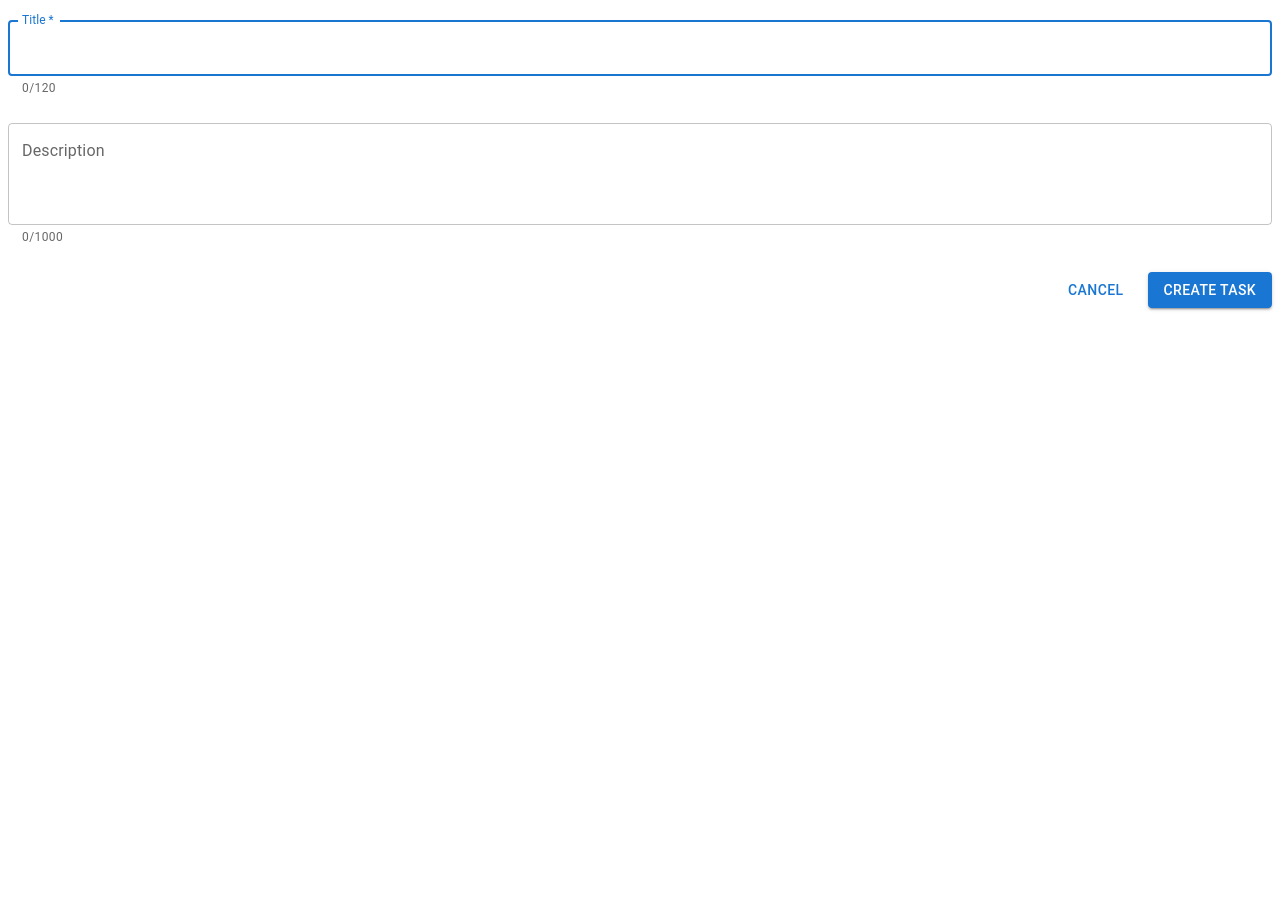
Test: CreateTaskForm › creates the task, confirms it and returns to the list
Type "Call the plumber" into the field labelled "Title *" at [640, 48], box [8, 20, 1272, 76]
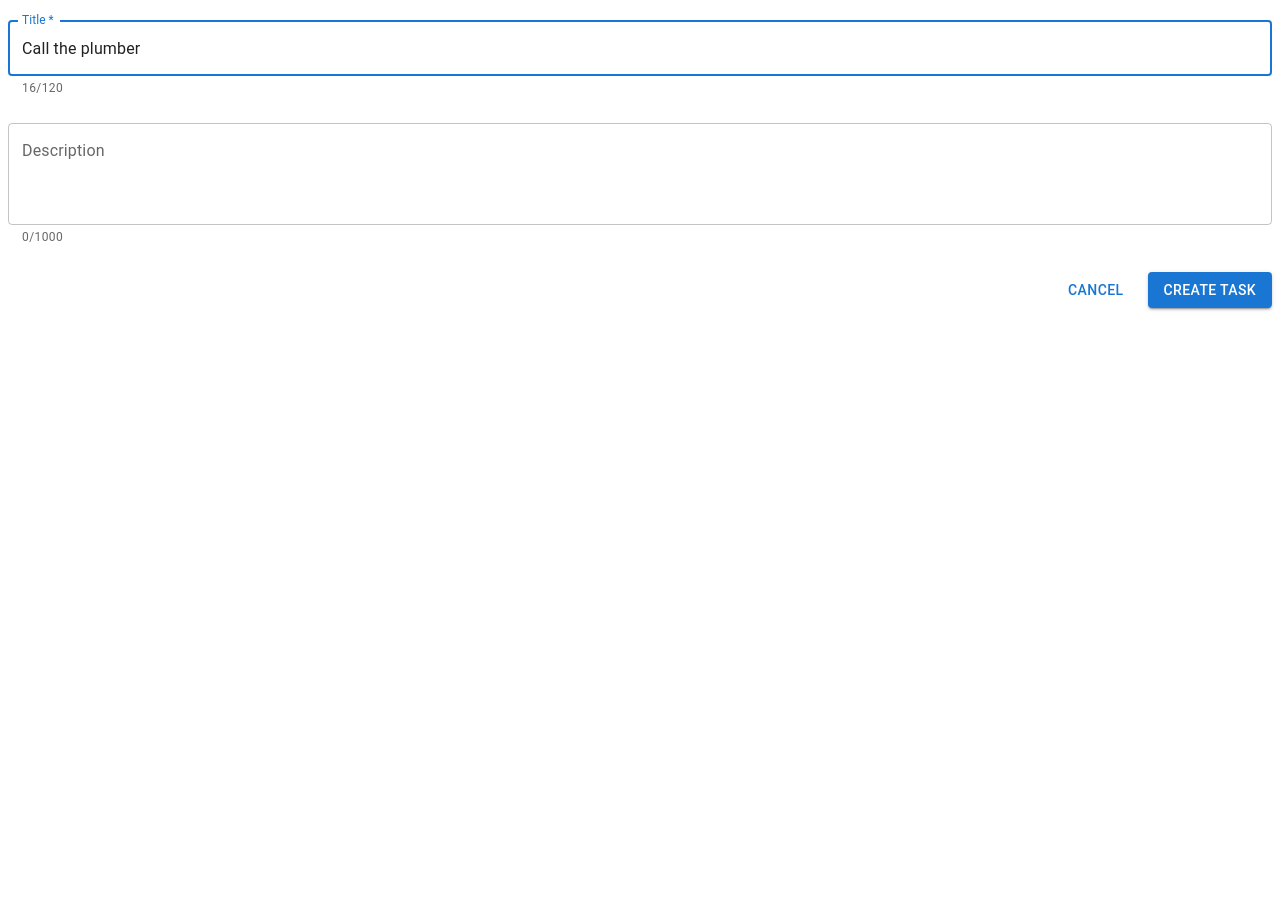
Type "Kitchen sink" into the text box labelled "Description" at [640, 174], box [22, 139, 1258, 208]
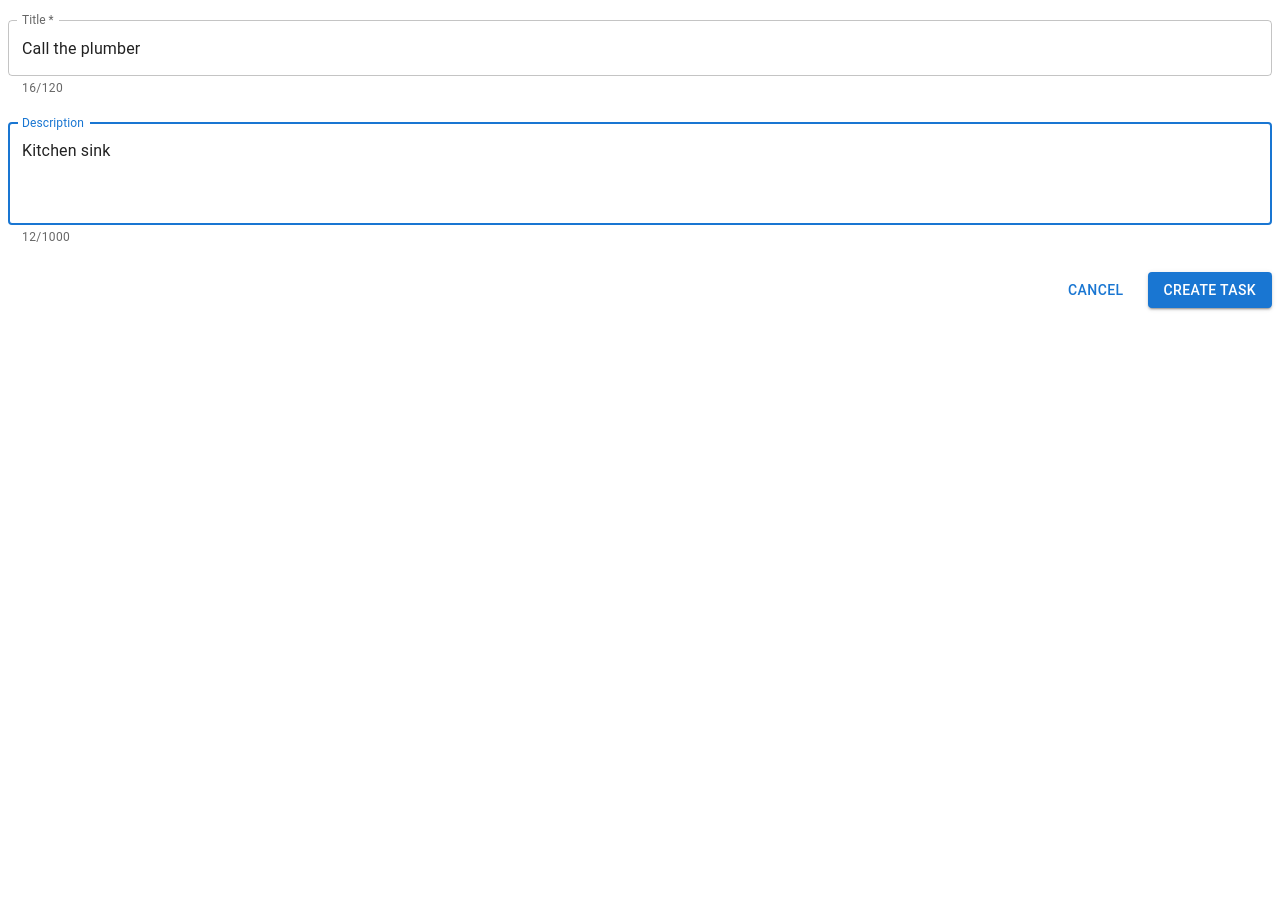
Click the button "Create task" at [1210, 290], box [1148, 272, 1272, 308]
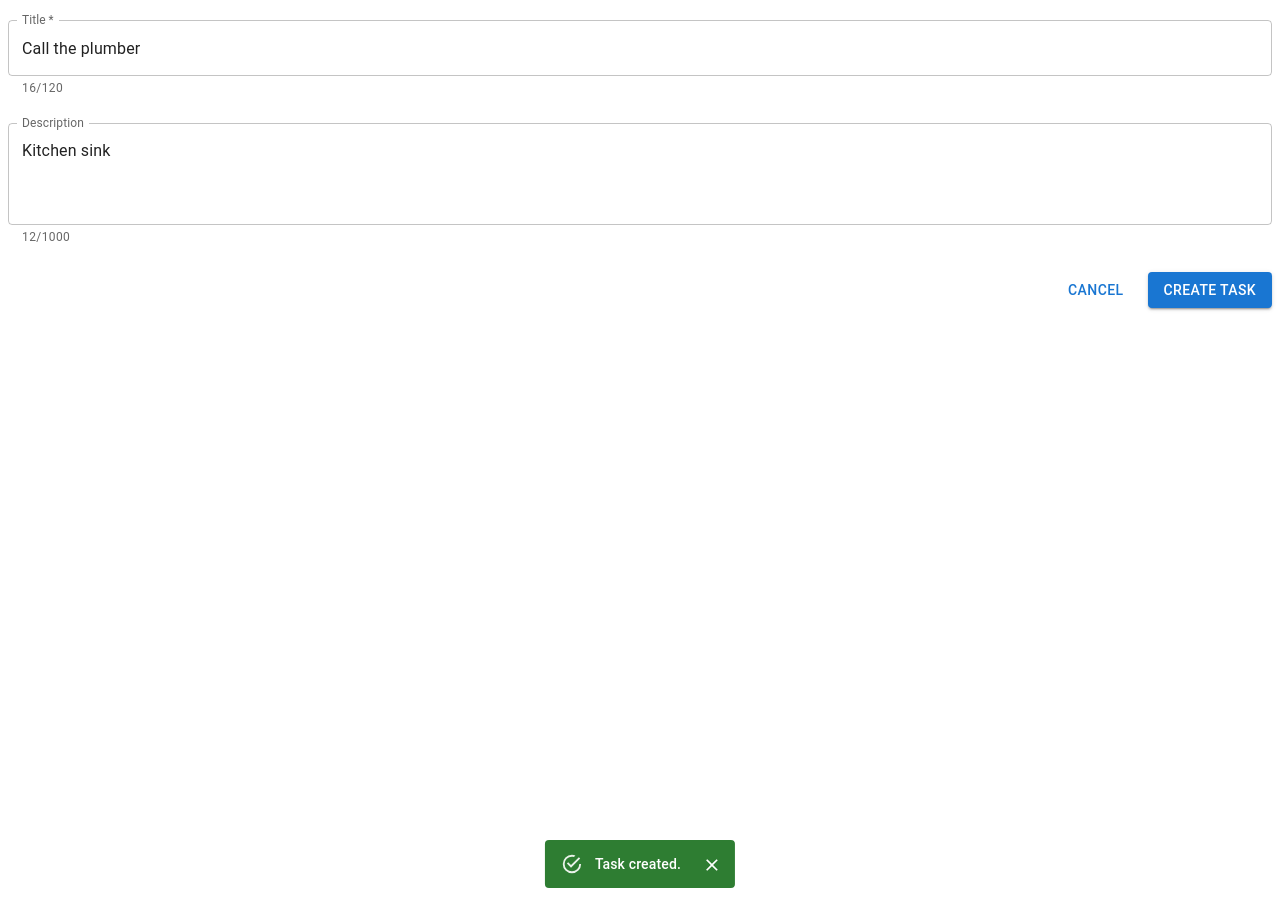
Result: the text "Task created." is shown at [595, 856, 681, 872]
